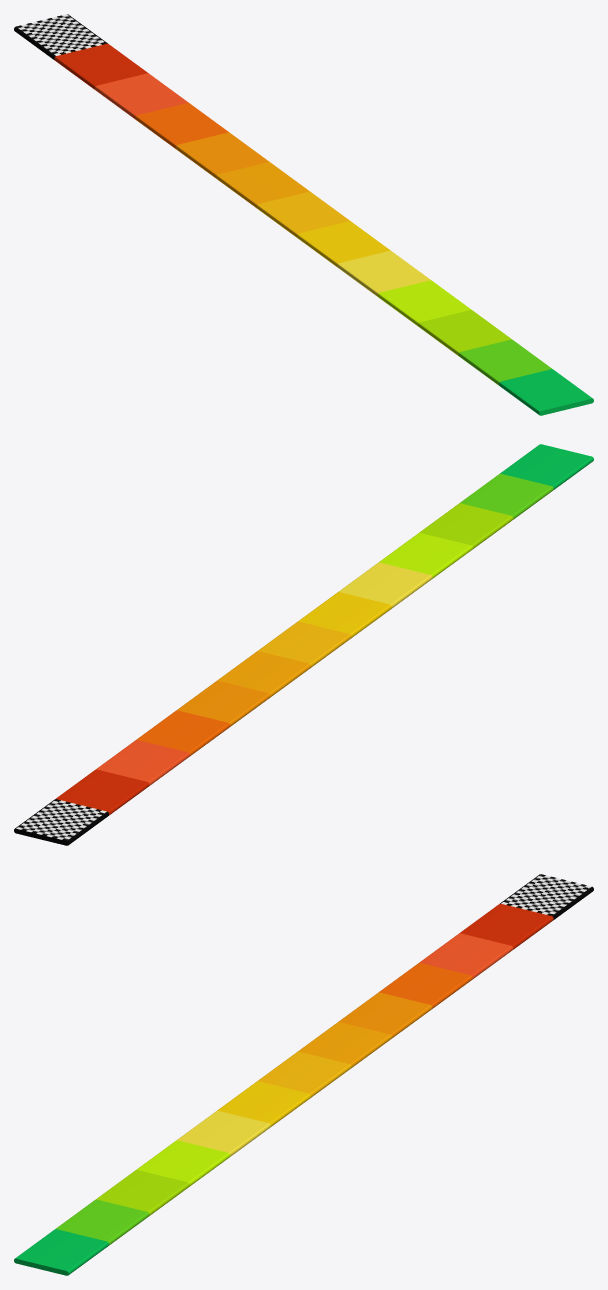
The model's file is floor_levelend_straight.fbx.
3 views of the same model, one above another, from view 1: azimuth 30°, elevation 25°; view 2: azimuth 150°, elevation 25°; view 3: azimuth 330°, elevation 25° (orthographic).
Visible parts, largest first — view 1: floor_levelend_straight; view 2: floor_levelend_straight; view 3: floor_levelend_straight.
Part boxes in pixels (<box>): floor_levelend_straight: <box>14,14,593,415</box>; floor_levelend_straight: <box>14,444,593,845</box>; floor_levelend_straight: <box>14,874,593,1275</box>.
Bounding box in the file's own units: 500 × 41.61 × 8321.
Materials: 1 (1 with a texture image).
